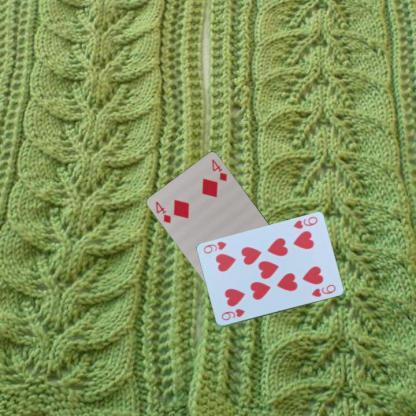4d: (153, 199, 172, 225)
9h: (290, 214, 318, 230), (219, 306, 246, 322)
